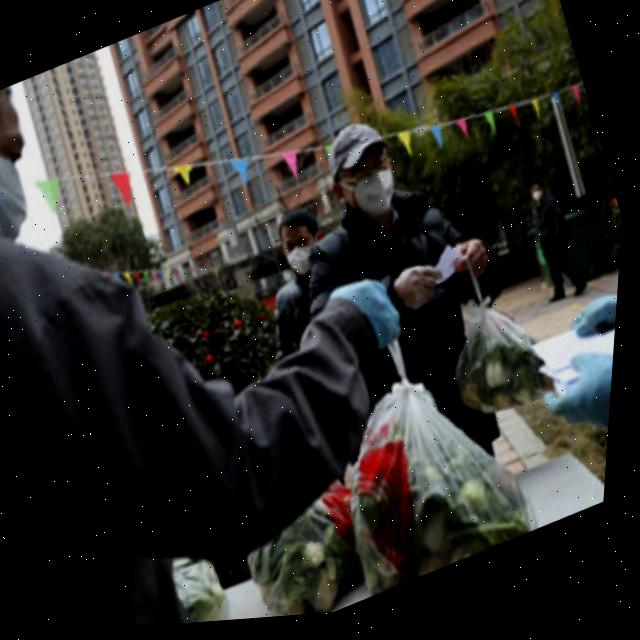Mask: (0, 83, 58, 270), (325, 149, 412, 232), (276, 217, 338, 283)
